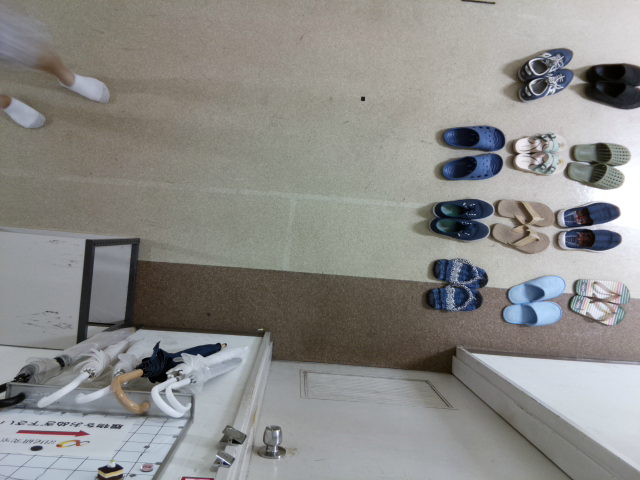Copy of Copy of Copy of Copy of Copy of Copy of Copy of Copy of Copy of Copy of: (508, 40, 579, 84), (510, 62, 581, 106), (561, 156, 634, 196), (563, 293, 640, 326), (551, 199, 631, 230), (554, 226, 634, 257), (563, 274, 640, 305), (504, 122, 568, 159), (507, 145, 570, 182), (565, 139, 635, 170), (576, 79, 640, 110), (576, 55, 640, 86)
Copy of Copy of Copy of Copy of Copy of Copy of Copy of Copy of Copy of shoe: (490, 192, 560, 232)
Copy of Copy of Copy of Copy of Copy of Copy of Copy of Copy of shoe: (487, 218, 557, 258)
Copy of Copy of Copy of Copy of Copy of Copy of Copy of shoe: (496, 295, 566, 335)
Copy of Copy of Copy of Copy of Copy of Copy of shoe: (500, 268, 570, 308)
Copy of Copy of Copy of Copy of Copy of shoe: (421, 212, 491, 246)
Copy of Copy of Copy of Copy of Copy of umbrella: (1, 318, 145, 415)
Copy of Copy of Copy of Copy of shoe: (425, 189, 496, 223)
Copy of Copy of Copy of Copy of umbrella: (32, 320, 147, 416)
Copy of Copy of Copy of shoe: (412, 279, 489, 320)
Copy of Copy of Copy of umbrella: (71, 322, 145, 413)
Copy of Copy of shoe: (421, 251, 497, 293)
Copy of Copy of umbrella: (105, 335, 229, 420)
Copy of foot: (1, 85, 52, 136)
Copy of shoe: (430, 146, 506, 187)
Copy of umbrella: (164, 348, 255, 427)
foot: (50, 59, 114, 112)
shoe: (432, 113, 508, 155)
umbrella: (144, 334, 255, 423)
